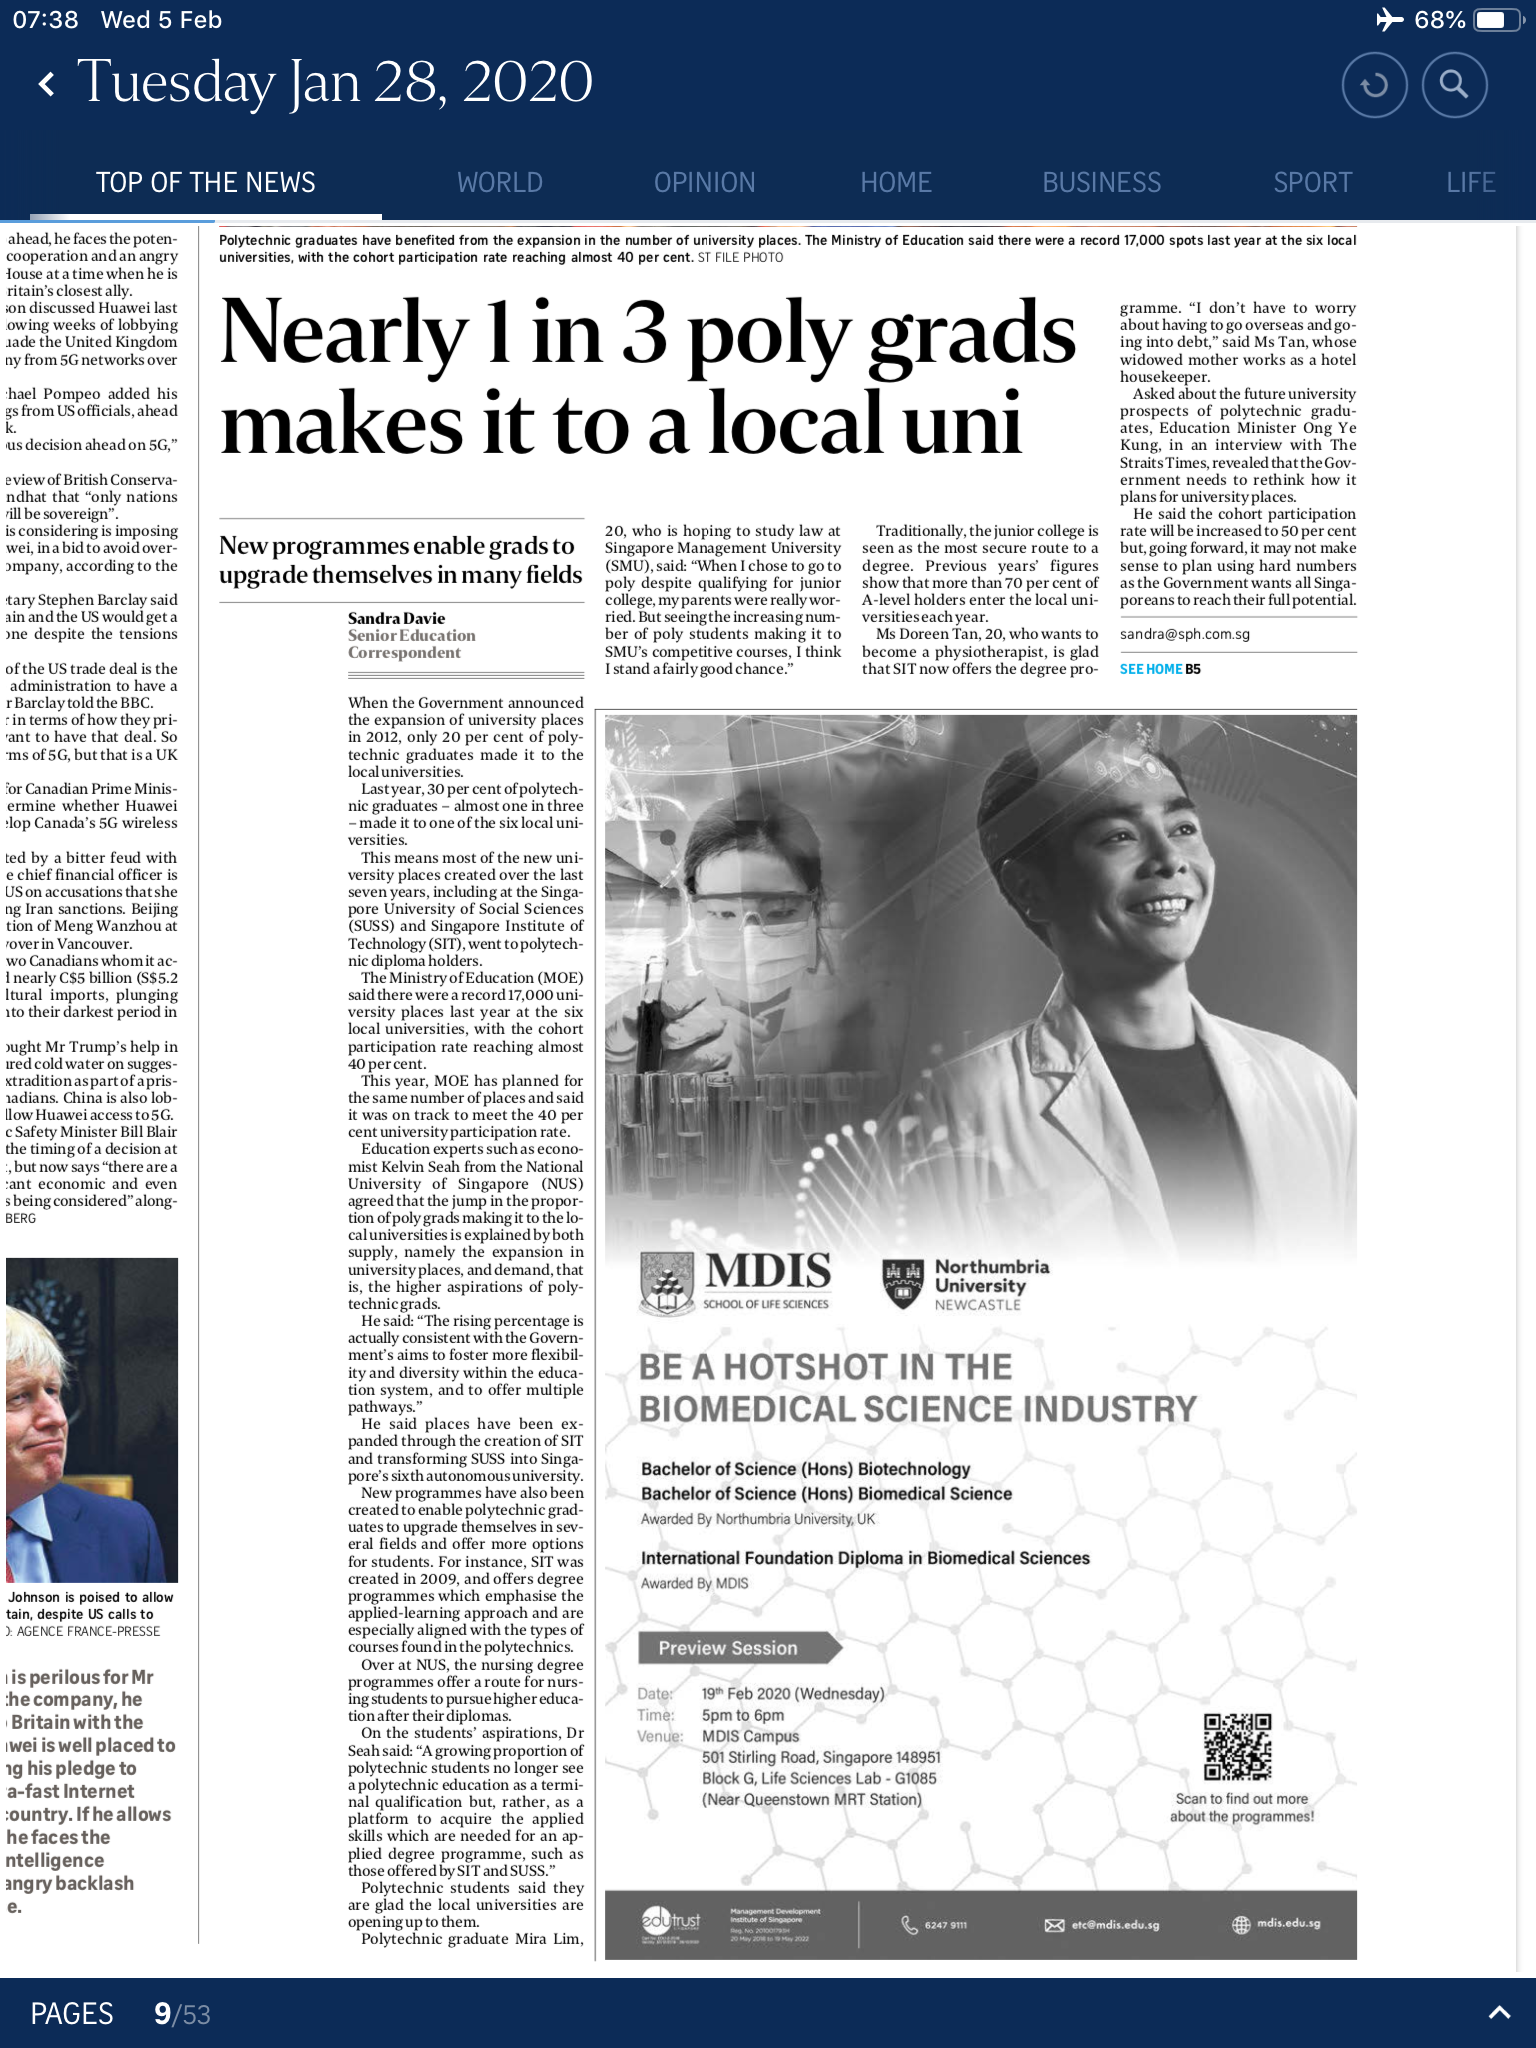Byline: (345, 610, 474, 663)
Headline: (218, 290, 1084, 458)
Illustration: (6, 1593, 168, 1643)
Image: (603, 714, 1355, 1958), (8, 1258, 181, 1582)
Text: (345, 693, 587, 1953), (6, 232, 177, 1224), (1118, 302, 1360, 610), (6, 1671, 174, 1916), (600, 519, 841, 679), (863, 522, 1104, 682)
